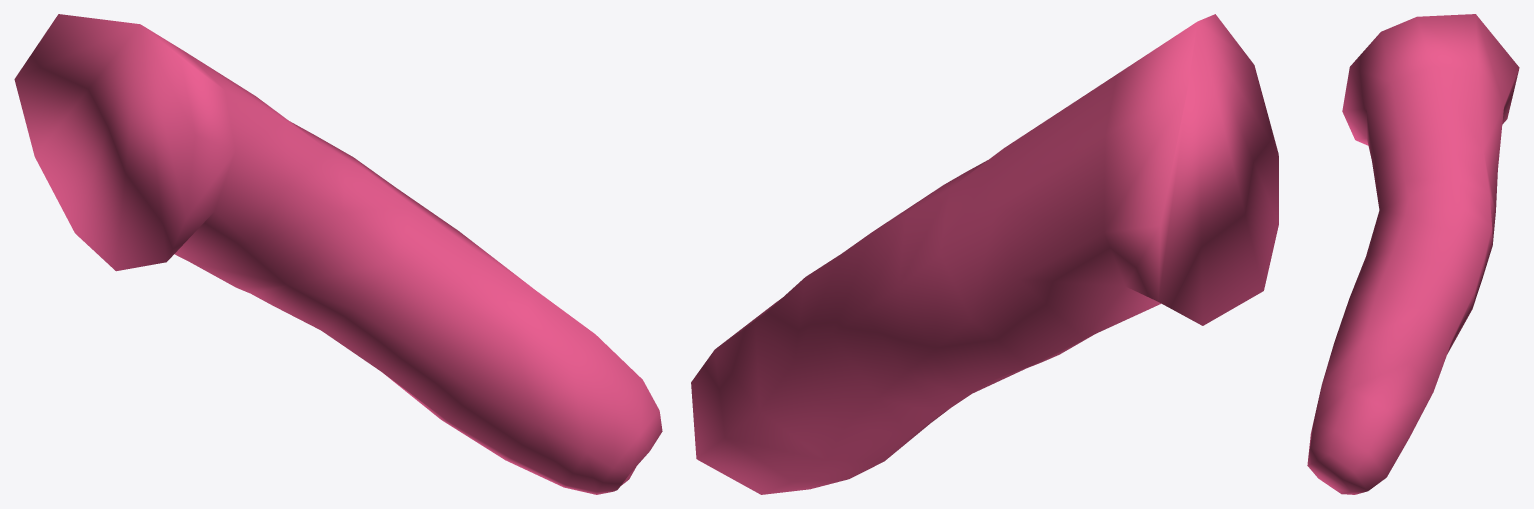
Rendered from leftHandEnemy.fbx.
3 renders of one model, left to right at view 1: azimuth 30°, elevation 25°; view 2: azimuth 150°, elevation 25°; view 3: azimuth 270°, elevation 25°, orthographic. The views are drawn at different scales.
Parts seen in each view (by area): view 1: Stickman_heads_sphere.002; view 2: Stickman_heads_sphere.002; view 3: Stickman_heads_sphere.002.
Boxes of the visible parts, bbox=[...] form: Stickman_heads_sphere.002: bbox=[14, 14, 662, 494]; Stickman_heads_sphere.002: bbox=[691, 14, 1278, 494]; Stickman_heads_sphere.002: bbox=[1307, 14, 1519, 494].
Bounding box in the file's own units: 0.4876 × 0.475 × 0.2655.
Materials: 1 (1 with a texture image).
